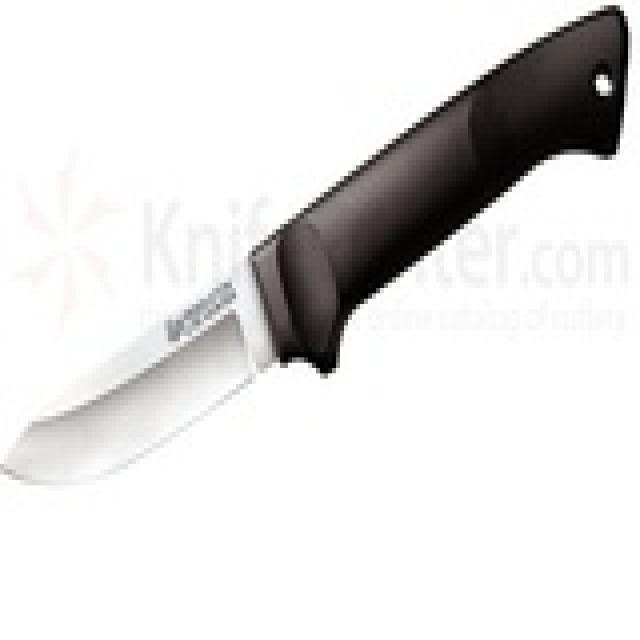Knife: (0, 3, 634, 532)
